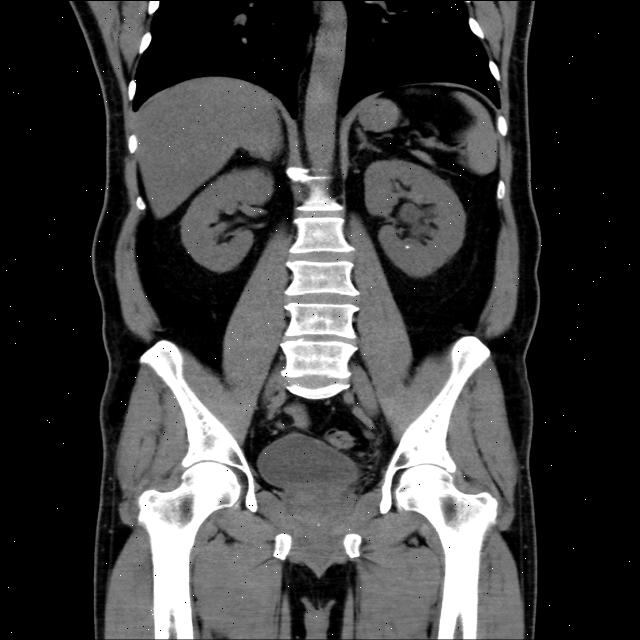kidneystone: (404, 244, 410, 250)
